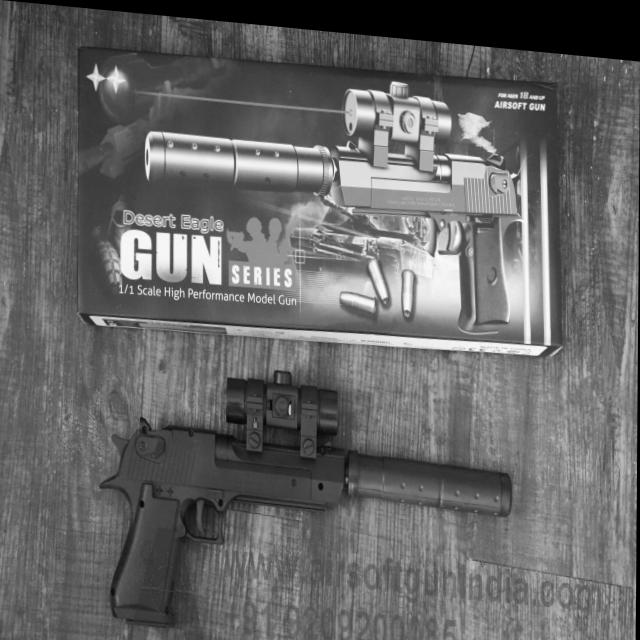handgun: (103, 352, 516, 640)
